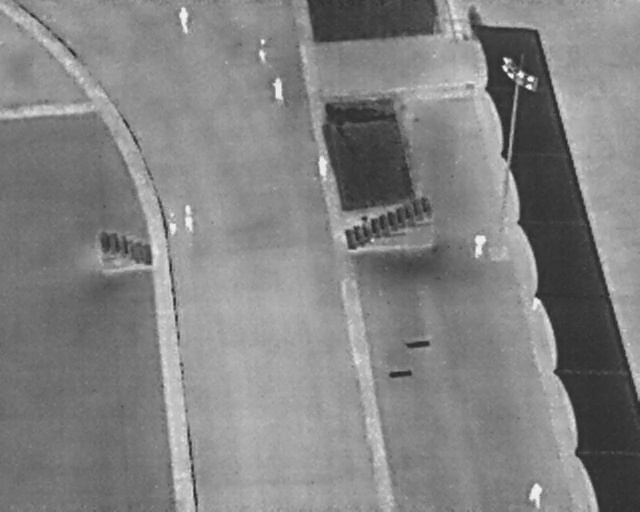Person: (175, 3, 194, 36), (528, 478, 545, 509), (472, 232, 488, 262), (270, 74, 286, 101), (317, 154, 331, 182), (256, 36, 270, 63), (183, 204, 195, 234), (166, 209, 178, 236)
